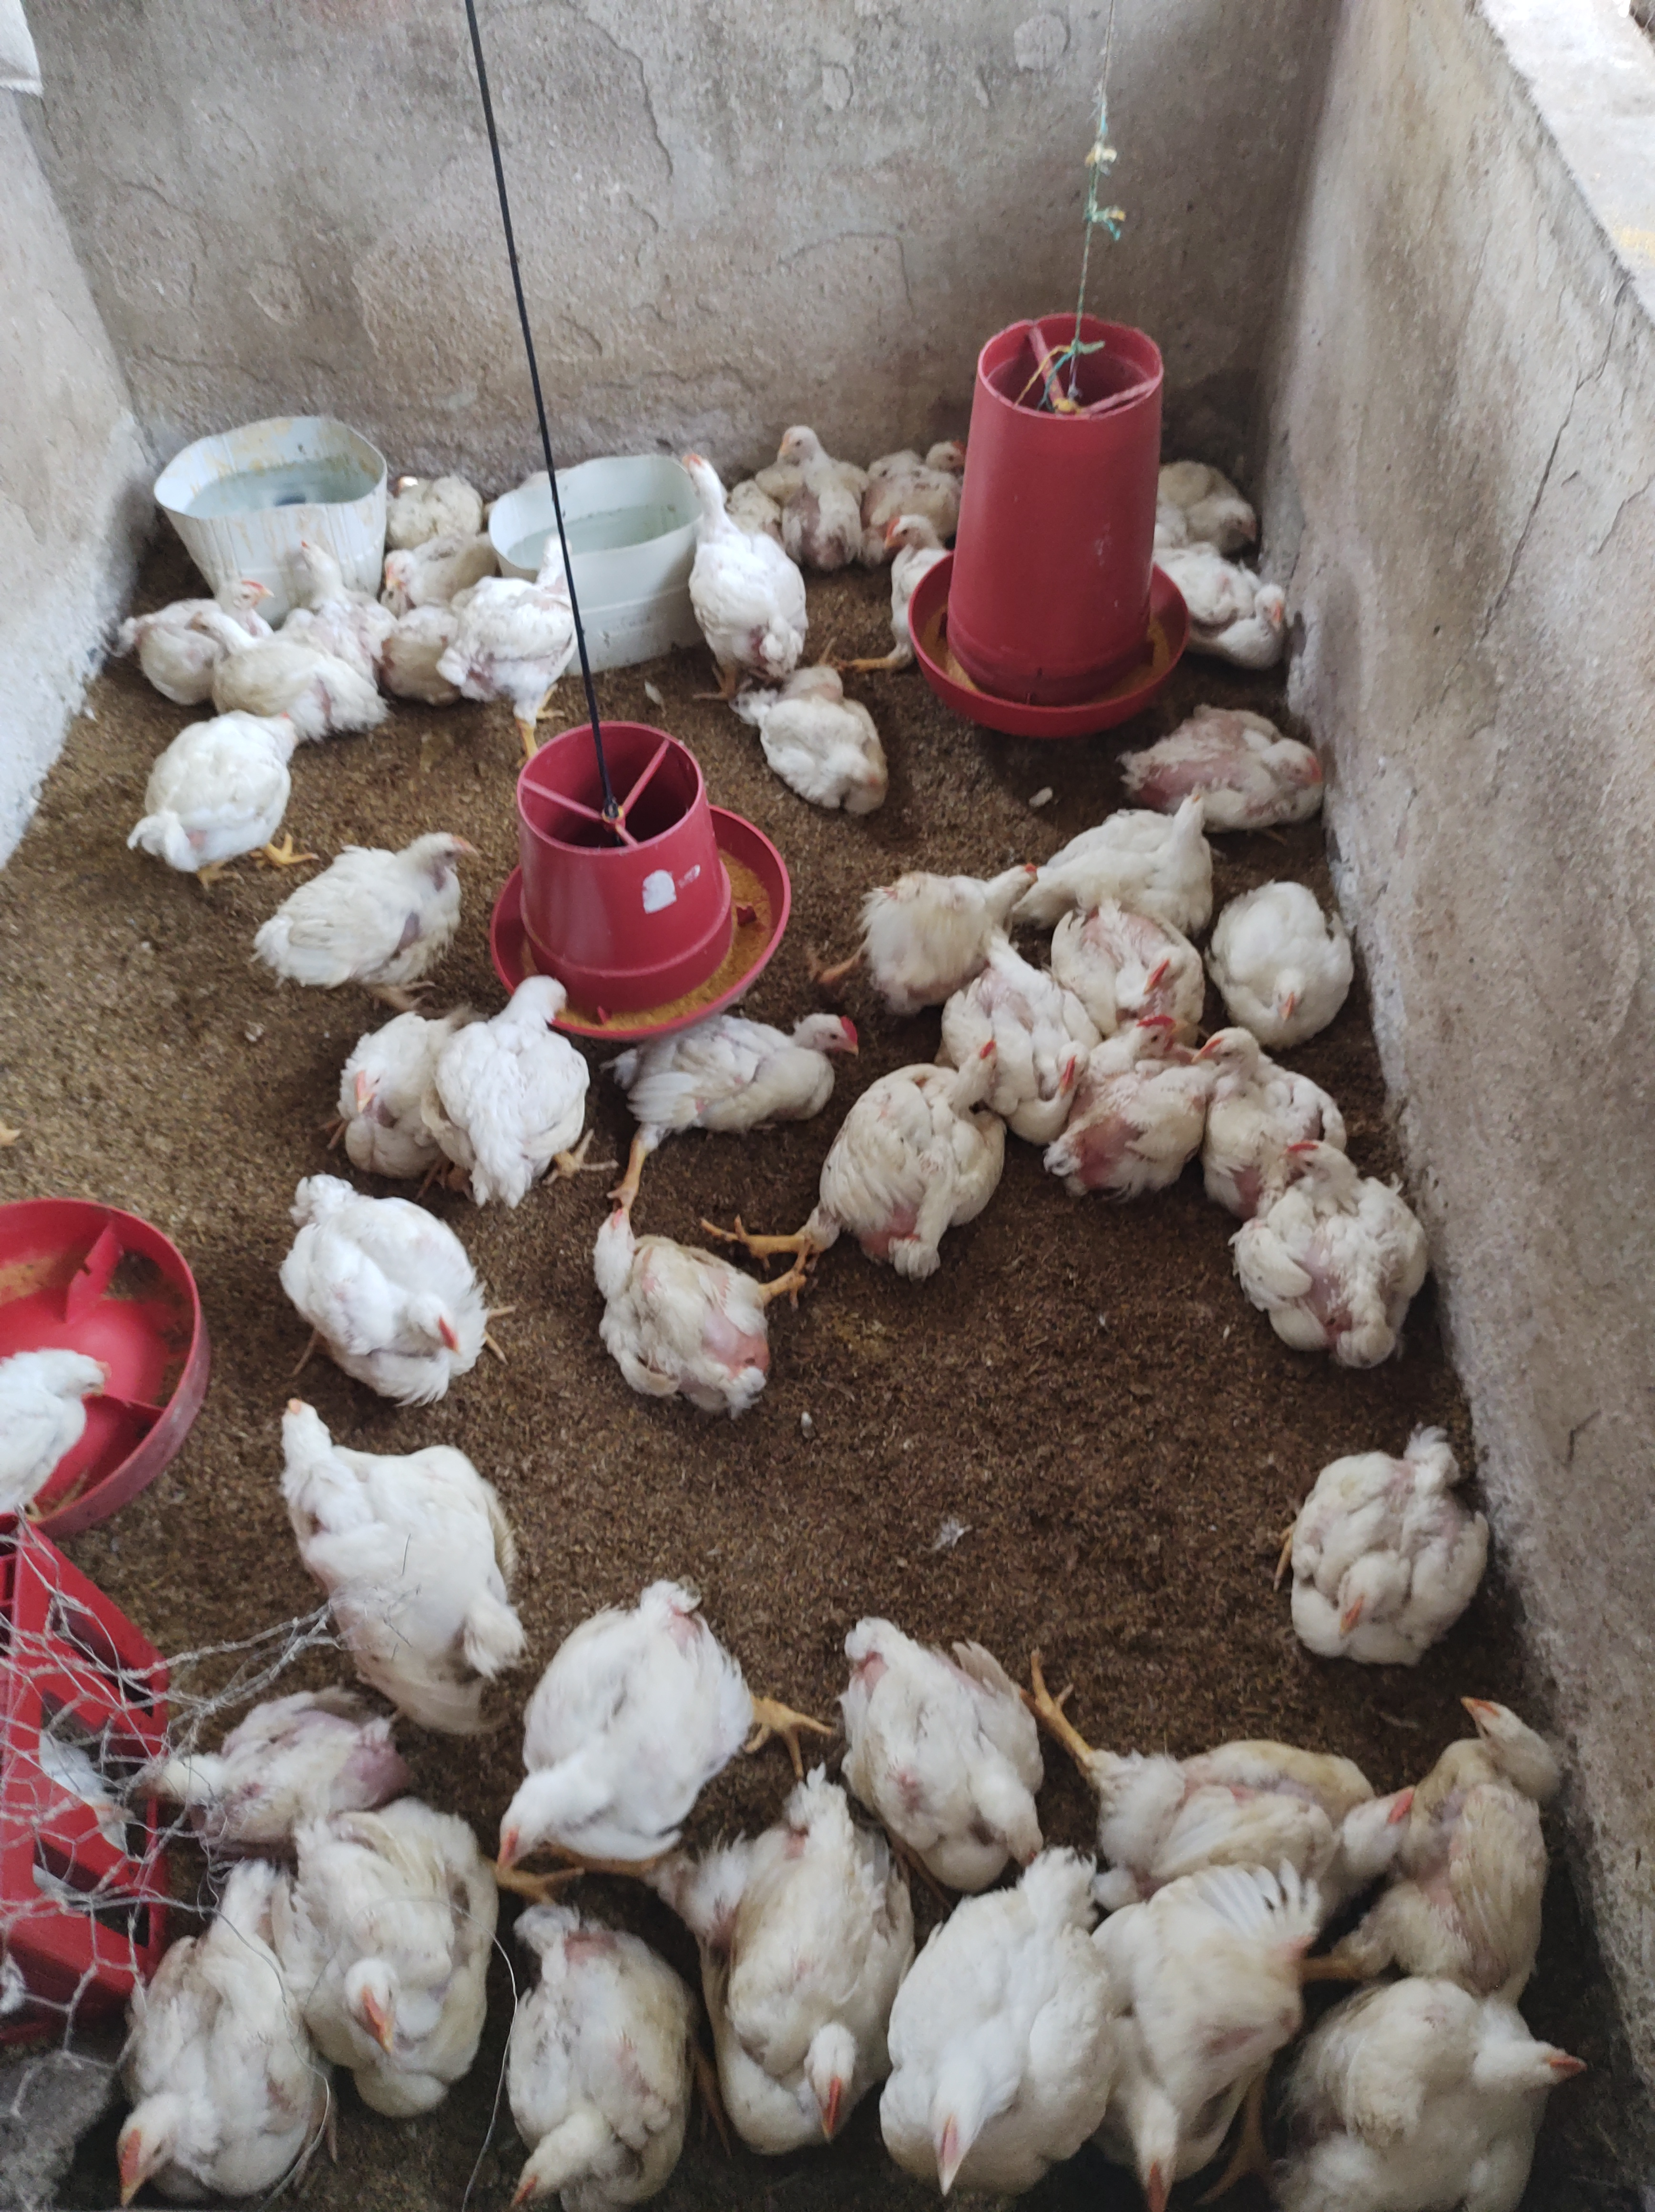Pollos: (494, 1588, 781, 1899), (264, 1386, 530, 1718), (61, 1866, 327, 2195), (1078, 1669, 1415, 1901), (880, 1880, 1114, 2212), (1099, 1887, 1333, 2209), (471, 1915, 708, 2210), (687, 1816, 887, 2158), (1318, 1984, 1613, 2212), (292, 1810, 502, 2111), (841, 1605, 1069, 1873), (621, 963, 866, 1177), (1399, 1650, 1584, 1930), (261, 1174, 504, 1384), (1281, 1419, 1516, 1633), (819, 1021, 1020, 1261), (565, 1205, 777, 1416), (1238, 1132, 1431, 1356), (271, 807, 487, 991), (127, 682, 316, 885), (452, 955, 602, 1198), (715, 647, 916, 824), (657, 438, 810, 668), (144, 1704, 424, 1829), (442, 515, 593, 746), (1111, 683, 1330, 838), (960, 916, 1093, 1132), (0, 1690, 125, 1913), (320, 995, 468, 1181), (1233, 873, 1372, 1028), (831, 857, 1034, 956), (1029, 802, 1226, 901), (1168, 539, 1321, 663), (873, 503, 974, 680), (118, 572, 283, 673), (1160, 421, 1285, 529), (1200, 1029, 1330, 1132), (1092, 909, 1217, 1014), (772, 409, 866, 546), (283, 518, 370, 642), (862, 426, 991, 503), (1099, 1007, 1170, 1096), (349, 537, 422, 600), (426, 466, 462, 518)
